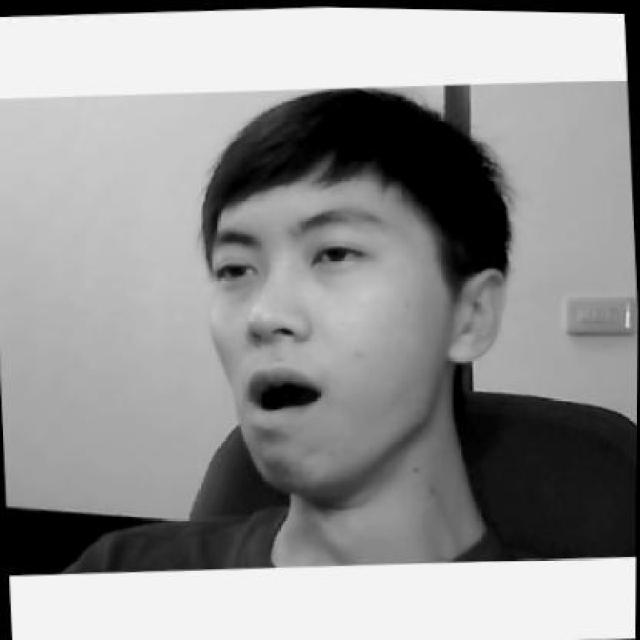inattentif: (189, 76, 517, 496)
